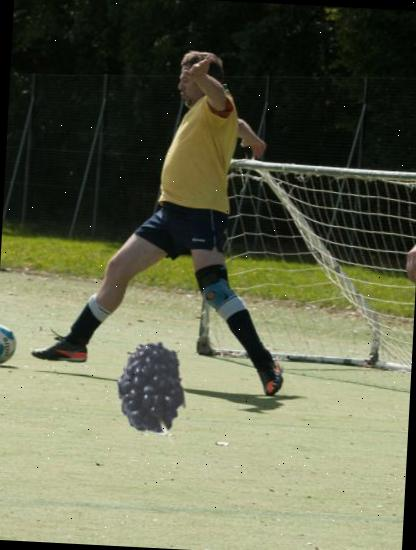Mulberry: (82, 338, 198, 454)
